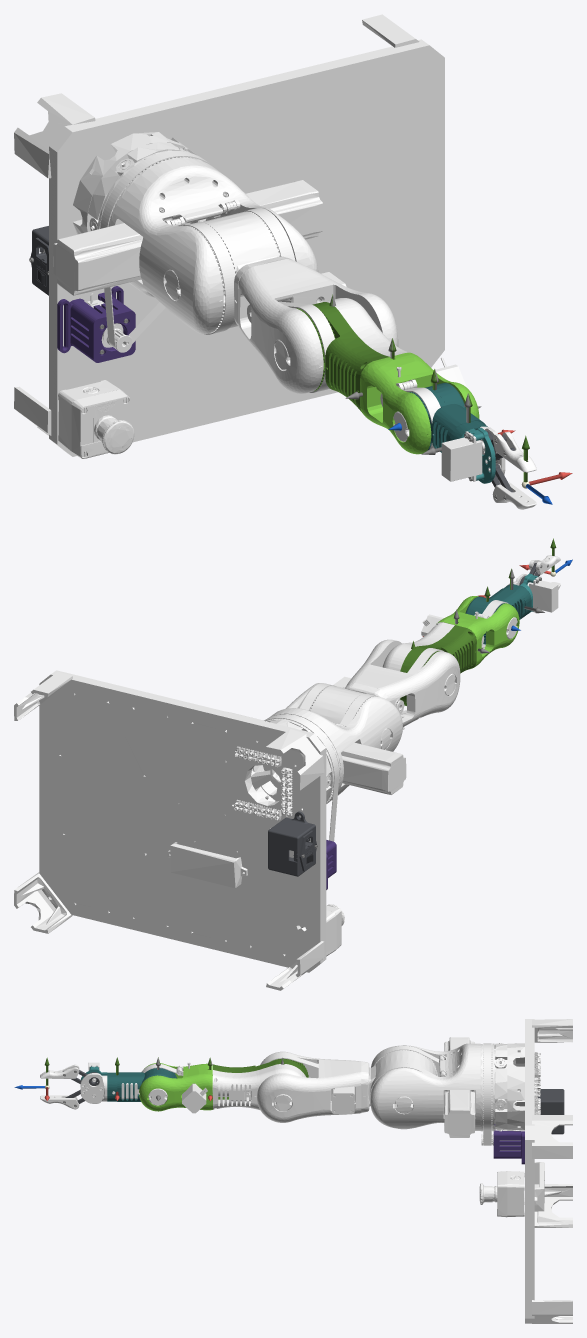
File: bras.glb
The picture shows the model from 3 angles, top to bottom: view 1: azimuth 30°, elevation 25°; view 2: azimuth 150°, elevation 25°; view 3: azimuth 270°, elevation 25°; orthographic projection. The views are drawn at different scales.
Parts seen in each view (by area): view 1: Table, Corps S1, Corps haut S2, Corps S4, Moteur 2 S1, ARU, Plateau corps, Moteur support S0, Corps bas S2, Corps 1 S3, Moteur S1, Courroie S0 (+12 smaller); view 2: Table, Corps haut S2, Corps S1, Moteur 2 S1, Interrupteur, Corps S4, Corps 1 S3, Corps bas S2, Courroie S0, Corps 2 S3, Plateau corps, Moteur Pince (+2 smaller); view 3: Table, Corps S1, Corps haut S2, Plateau corps, Corps S4, Corps 2 S3, ARU, Moteur S1, Corps bas S2, Moteur support S0, Courroie S0, Interrupteur (+6 smaller).
Boxes of the visible parts, x1,y1,x2,y2 form: Table: (14, 14, 444, 456); Corps S1: (110, 158, 318, 333); Corps haut S2: (237, 259, 398, 393); Corps S4: (360, 352, 479, 454); Moteur 2 S1: (53, 223, 142, 295); ARU: (58, 380, 134, 458); Plateau corps: (72, 132, 205, 234); Moteur support S0: (57, 286, 135, 362); Corps bas S2: (188, 211, 291, 332); Corps 1 S3: (296, 302, 389, 411); Moteur S1: (246, 180, 322, 239); Courroie S0: (100, 151, 215, 349); Table: (14, 670, 326, 990); Corps haut S2: (346, 639, 460, 726); Corps S1: (262, 683, 402, 800); Moteur 2 S1: (341, 742, 406, 794); Interrupteur: (268, 811, 317, 876); Corps S4: (436, 596, 519, 668); Corps 1 S3: (400, 625, 476, 705); Corps bas S2: (309, 682, 388, 723); Courroie S0: (264, 714, 339, 841); Corps 2 S3: (382, 622, 454, 671); Plateau corps: (251, 720, 331, 801); Moteur Pince: (529, 576, 558, 612); Table: (525, 1019, 572, 1323); Corps S1: (370, 1043, 480, 1130); Corps haut S2: (257, 1051, 361, 1122); Plateau corps: (494, 1043, 524, 1131); Corps S4: (139, 1063, 212, 1111); Corps 2 S3: (212, 1064, 305, 1109); ARU: (479, 1171, 524, 1217); Moteur S1: (444, 1090, 475, 1137); Corps bas S2: (361, 1050, 437, 1112); Moteur support S0: (493, 1124, 524, 1164); Courroie S0: (483, 1043, 491, 1145); Interrupteur: (538, 1089, 564, 1134).
Bounding box in the file's own units: 0.5626 × 0.4097 × 1.02.
